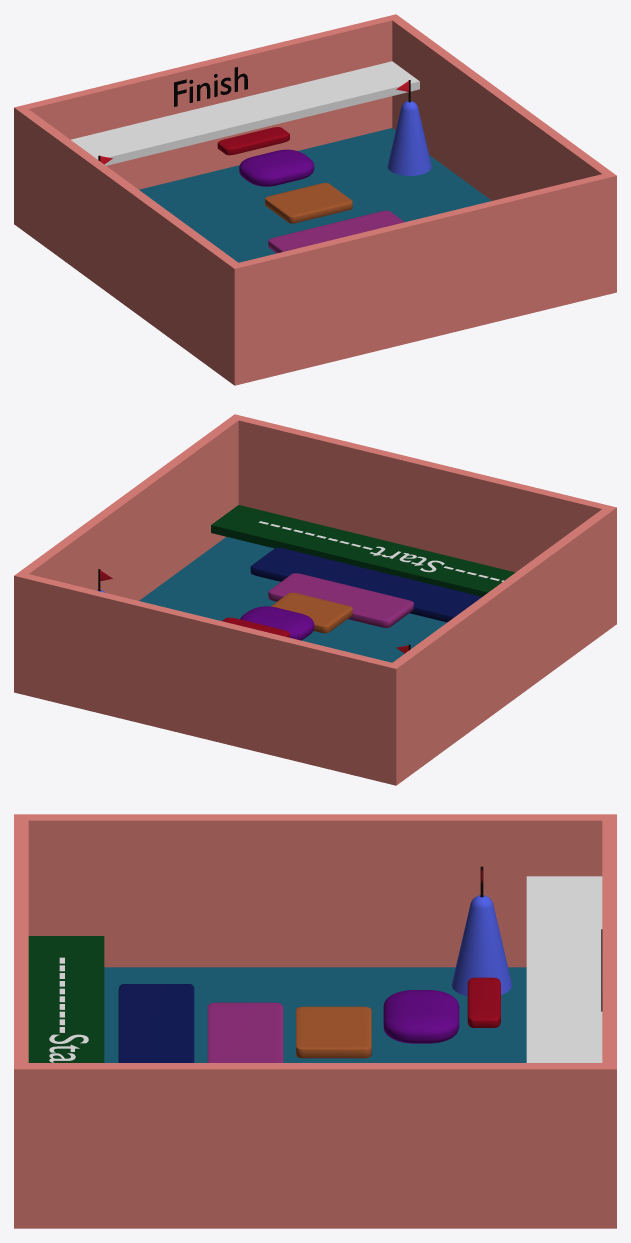
File: arcade.fbx
3 views of the same model, one above another, from view 1: azimuth 30°, elevation 25°; view 2: azimuth 150°, elevation 25°; view 3: azimuth 270°, elevation 25° (orthographic). The views are drawn at different scales.
Visible parts, largest first — view 1: walls, floor.006, Cylinder, floor.003, floor.002, floor.004, floor.005, finish; view 2: walls, floor, floor.001, floor.002, floor.003, floor.004, start; view 3: walls, floor.006, floor, floor.001, floor.002, floor.003, floor.004, Cylinder, floor.005, start.
Part boxes in pixels (bbox=[...]): walls: bbox=[14, 14, 616, 385]; floor.006: bbox=[71, 61, 419, 165]; Cylinder: bbox=[98, 80, 431, 175]; floor.003: bbox=[265, 182, 352, 223]; floor.002: bbox=[268, 210, 404, 253]; floor.004: bbox=[239, 149, 314, 186]; floor.005: bbox=[217, 127, 289, 155]; finish: bbox=[174, 67, 247, 106]; walls: bbox=[14, 414, 616, 785]; floor: bbox=[211, 505, 515, 596]; floor.001: bbox=[250, 547, 481, 622]; floor.002: bbox=[268, 573, 413, 627]; floor.003: bbox=[271, 592, 352, 633]; floor.004: bbox=[240, 606, 314, 640]; start: bbox=[258, 521, 503, 581]; walls: bbox=[14, 814, 616, 1228]; floor.006: bbox=[526, 876, 602, 1062]; floor: bbox=[28, 936, 104, 1062]; floor.001: bbox=[118, 984, 194, 1062]; floor.002: bbox=[207, 1002, 283, 1062]; floor.003: bbox=[296, 1006, 371, 1058]; floor.004: bbox=[383, 990, 459, 1043]; Cylinder: bbox=[451, 866, 511, 996]; floor.005: bbox=[467, 977, 500, 1027]; start: bbox=[49, 957, 88, 1062].
Size of the model in its own units: 817 by 238 by 817.
